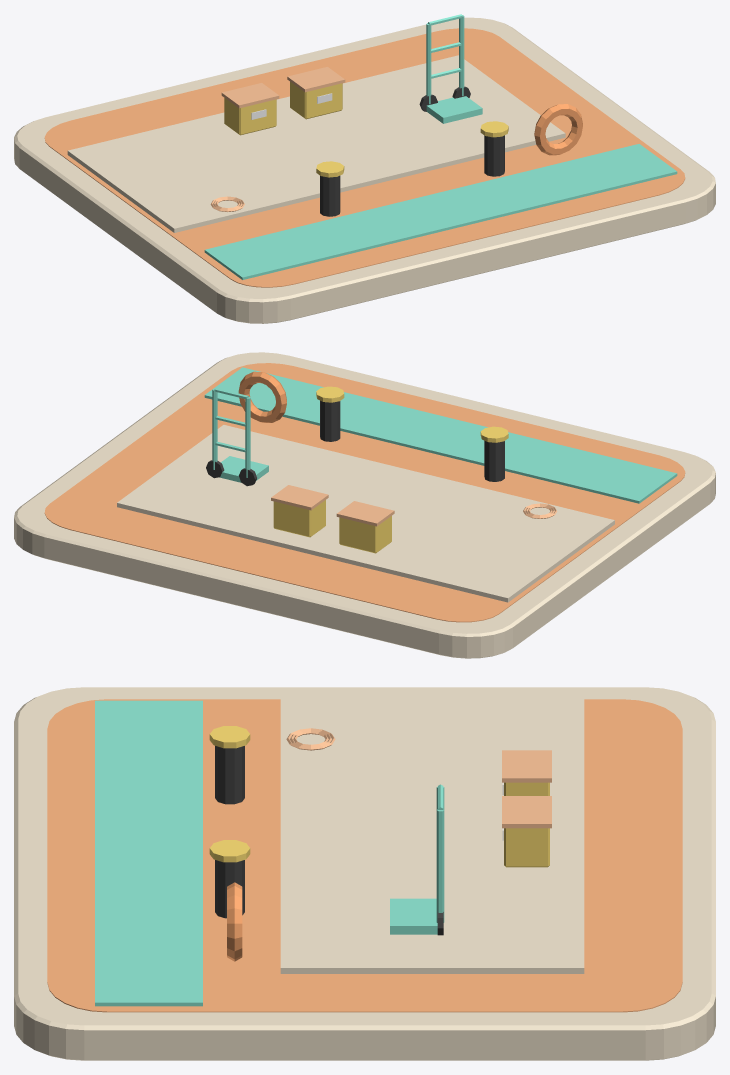
The picture shows the model from 3 angles, top to bottom: view 1: azimuth 30°, elevation 25°; view 2: azimuth 150°, elevation 25°; view 3: azimuth 270°, elevation 25°; orthographic projection. The views are drawn at different scales.
Visible parts, largest first — view 1: Dock paving, COM-01 Rounded Base Direct, COM-02 Floor Surface, Water edge, Life ring, Box, Box.001, Loading plate, Lid, Lid.001, Mooring post.001, Mooring post; view 2: COM-02 Floor Surface, Dock paving, COM-01 Rounded Base Direct, Water edge, Box.001, Box, Life ring, Lid, Lid.001, Mooring post.001, Mooring post, Loading plate; view 3: COM-02 Floor Surface, Dock paving, COM-01 Rounded Base Direct, Water edge, Box.001, Loading plate, Mooring post, Lid, Lid.001, Life ring, Mooring post.001, Frame.001 (+3 smaller).
Boxes of the visible parts, x1=… form: Dock paving: x1=67, y1=55, x2=565, y2=232; COM-01 Rounded Base Direct: x1=14, y1=17, x2=715, y2=323; COM-02 Floor Surface: x1=44, y1=28, x2=685, y2=287; Water edge: x1=204, y1=144, x2=677, y2=279; Life ring: x1=534, y1=104, x2=582, y2=155; Box: x1=224, y1=98, x2=276, y2=135; Box.001: x1=290, y1=82, x2=342, y2=119; Loading plate: x1=426, y1=96, x2=482, y2=123; Lid: x1=221, y1=83, x2=279, y2=108; Lid.001: x1=287, y1=67, x2=345, y2=92; Mooring post.001: x1=484, y1=135, x2=504, y2=176; Mooring post: x1=320, y1=175, x2=340, y2=216; COM-02 Floor Surface: x1=44, y1=363, x2=685, y2=622; Dock paving: x1=117, y1=425, x2=614, y2=602; COM-01 Rounded Base Direct: x1=14, y1=352, x2=715, y2=658; Water edge: x1=204, y1=367, x2=677, y2=503; Box.001: x1=273, y1=500, x2=325, y2=537; Box: x1=339, y1=516, x2=391, y2=553; Life ring: x1=238, y1=371, x2=286, y2=422; Lid: x1=336, y1=501, x2=394, y2=526; Lid.001: x1=271, y1=485, x2=328, y2=510; Mooring post.001: x1=320, y1=400, x2=340, y2=441; Mooring post: x1=484, y1=441, x2=504, y2=481; Loading plate: x1=219, y1=456, x2=268, y2=482; COM-02 Floor Surface: x1=47, y1=699, x2=682, y2=1012; Dock paving: x1=280, y1=696, x2=584, y2=973; COM-01 Rounded Base Direct: x1=14, y1=687, x2=715, y2=1060; Water edge: x1=95, y1=700, x2=202, y2=1006; Box.001: x1=504, y1=828, x2=549, y2=867; Loading plate: x1=390, y1=898, x2=437, y2=934; Mooring post: x1=215, y1=746, x2=244, y2=804; Lid: x1=502, y1=750, x2=551, y2=782; Lid.001: x1=502, y1=796, x2=551, y2=828; Life ring: x1=227, y1=882, x2=242, y2=961; Mooring post.001: x1=215, y1=860, x2=244, y2=918; Frame.001: x1=436, y1=809, x2=444, y2=922.
Size of the model in its own units: 6 by 1.39 by 5.2.
Materials: 1 (1 with a texture image).
